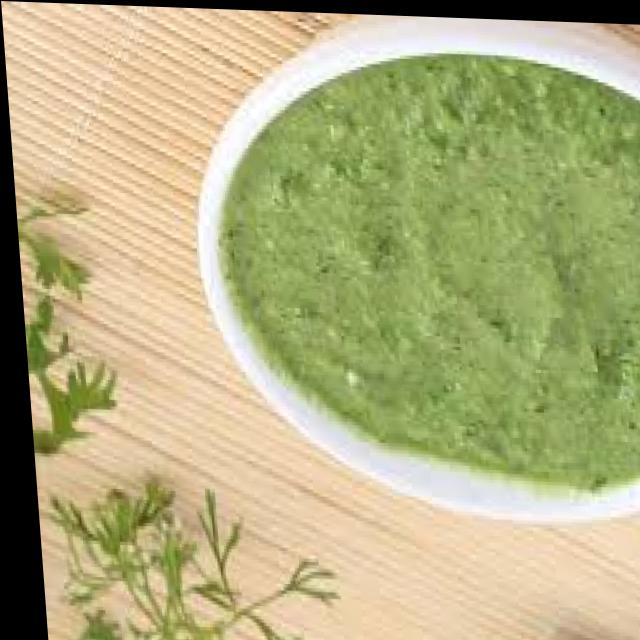GREEN CHUTNEY: (231, 65, 640, 486)
